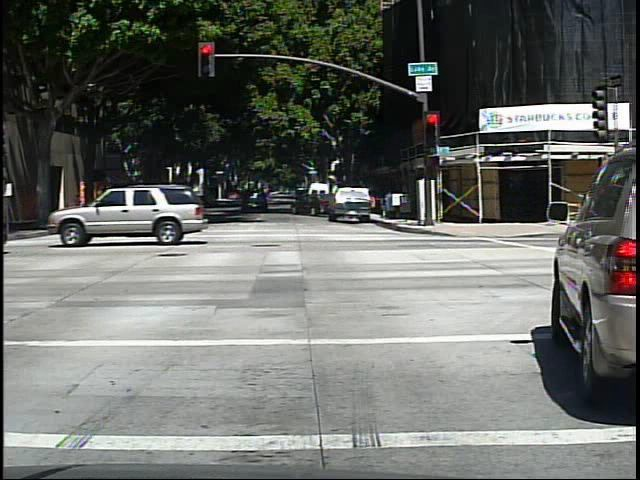person: (69, 187, 86, 223)
